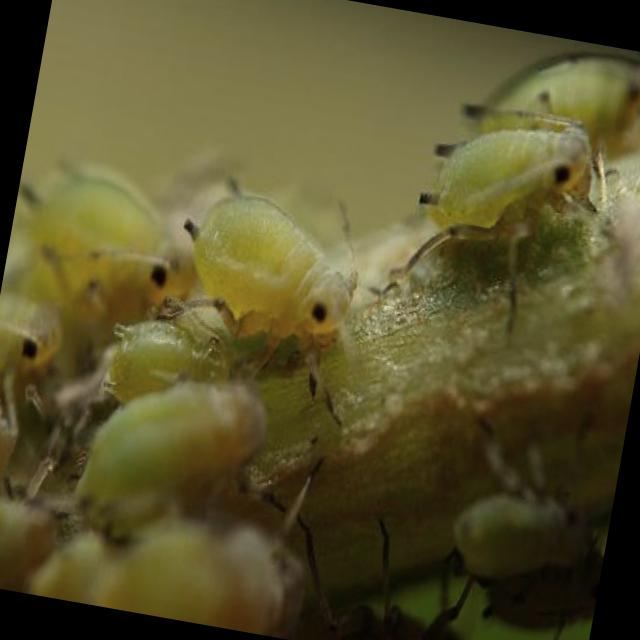Aphids: (366, 80, 628, 316), (149, 146, 395, 371), (68, 363, 273, 549)
